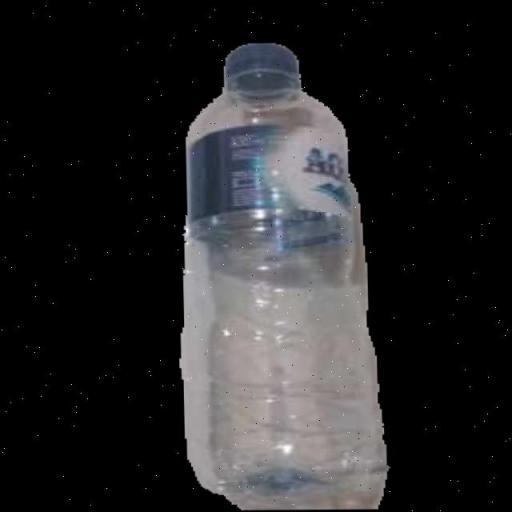plastic: (168, 38, 392, 510)
